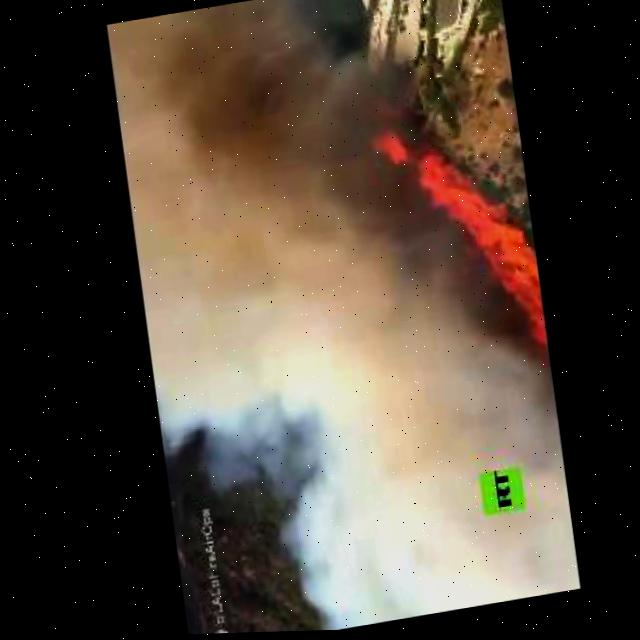Fire: (362, 104, 551, 383)
Smoke: (98, 0, 401, 483), (283, 408, 581, 633)
